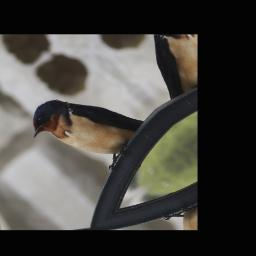Swallow: (16, 67, 162, 191)
